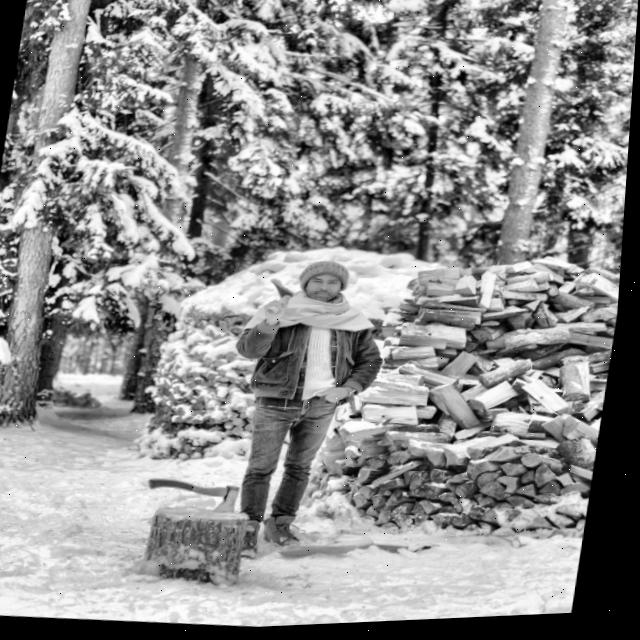kapak: (139, 473, 246, 514), (260, 276, 296, 318)
